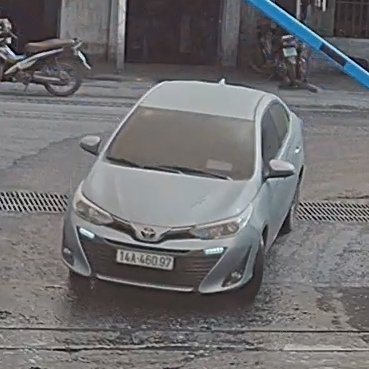vehicle plate: (110, 244, 179, 271)
